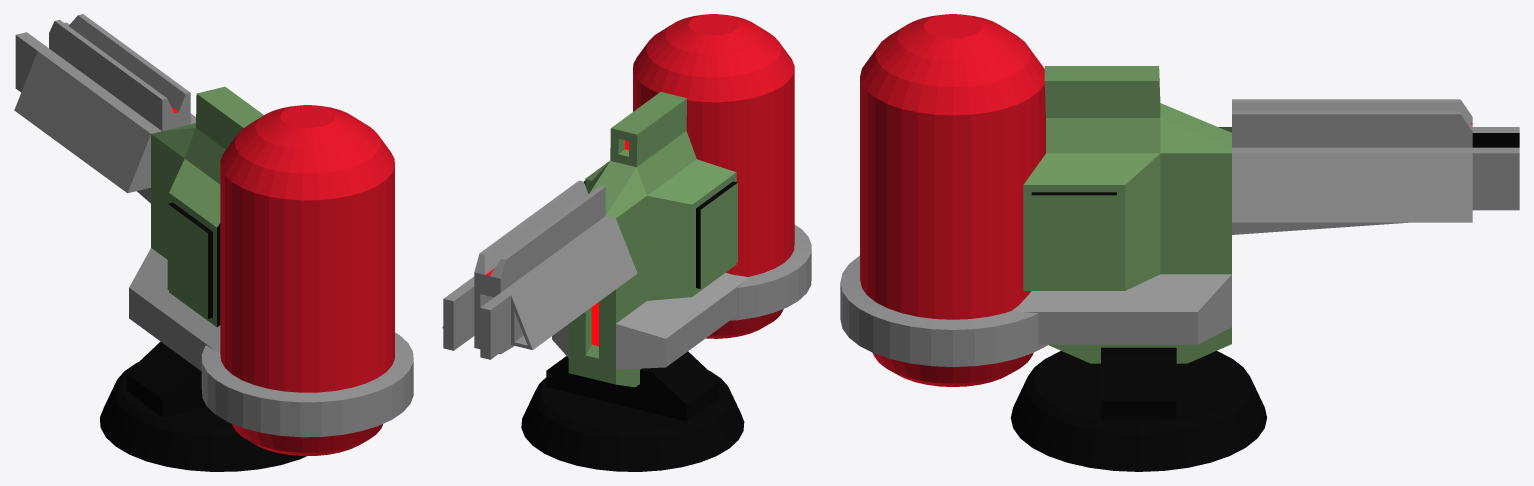
The model's file is TurretEnemy.fbx.
The picture shows the model from 3 angles, left to right: view 1: azimuth 30°, elevation 25°; view 2: azimuth 150°, elevation 25°; view 3: azimuth 270°, elevation 25°; orthographic projection. The views are drawn at different scales.
Visible parts, largest first — view 1: Cylinder.001; view 2: Cylinder.001; view 3: Cylinder.001.
Boxes of the visible parts, x1,y1,x2,y2 form: Cylinder.001: [14, 14, 413, 471]; Cylinder.001: [442, 14, 811, 471]; Cylinder.001: [840, 14, 1519, 471].
Size of the model in its own units: 385 by 649 by 1021.
